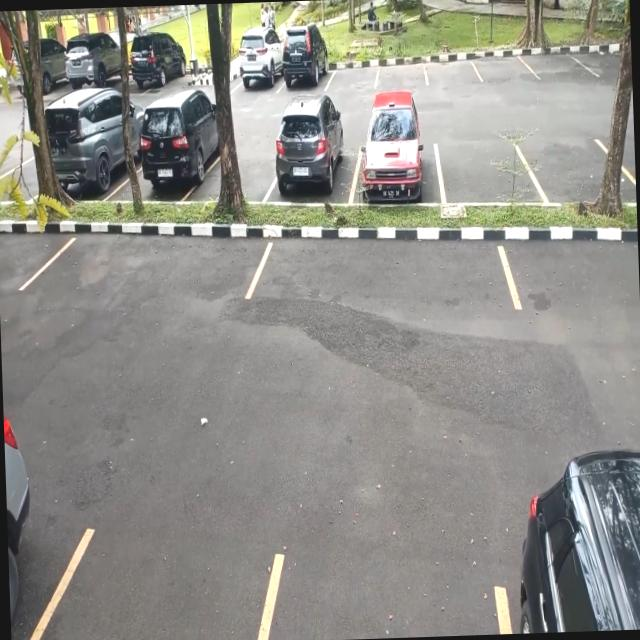car: (138, 100, 220, 204), (46, 101, 126, 202), (270, 115, 354, 208), (353, 126, 439, 208), (280, 36, 330, 96), (238, 31, 284, 96)
free: (19, 524, 272, 640), (256, 539, 511, 640), (260, 230, 512, 324), (45, 232, 264, 312), (504, 231, 638, 312), (528, 136, 630, 207), (440, 138, 536, 208), (0, 222, 47, 296), (476, 45, 532, 86), (528, 42, 587, 80), (422, 51, 479, 89), (376, 54, 428, 90), (327, 56, 377, 92), (579, 38, 621, 76)
